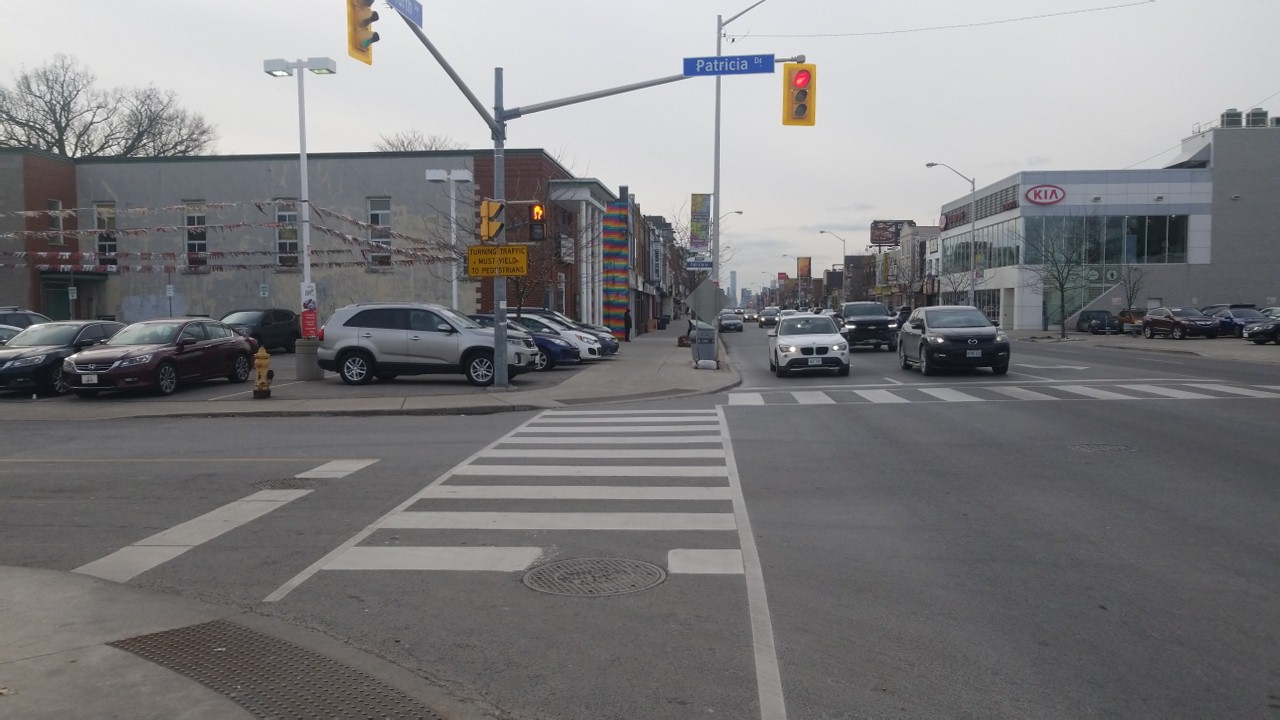light: (525, 201, 547, 242)
